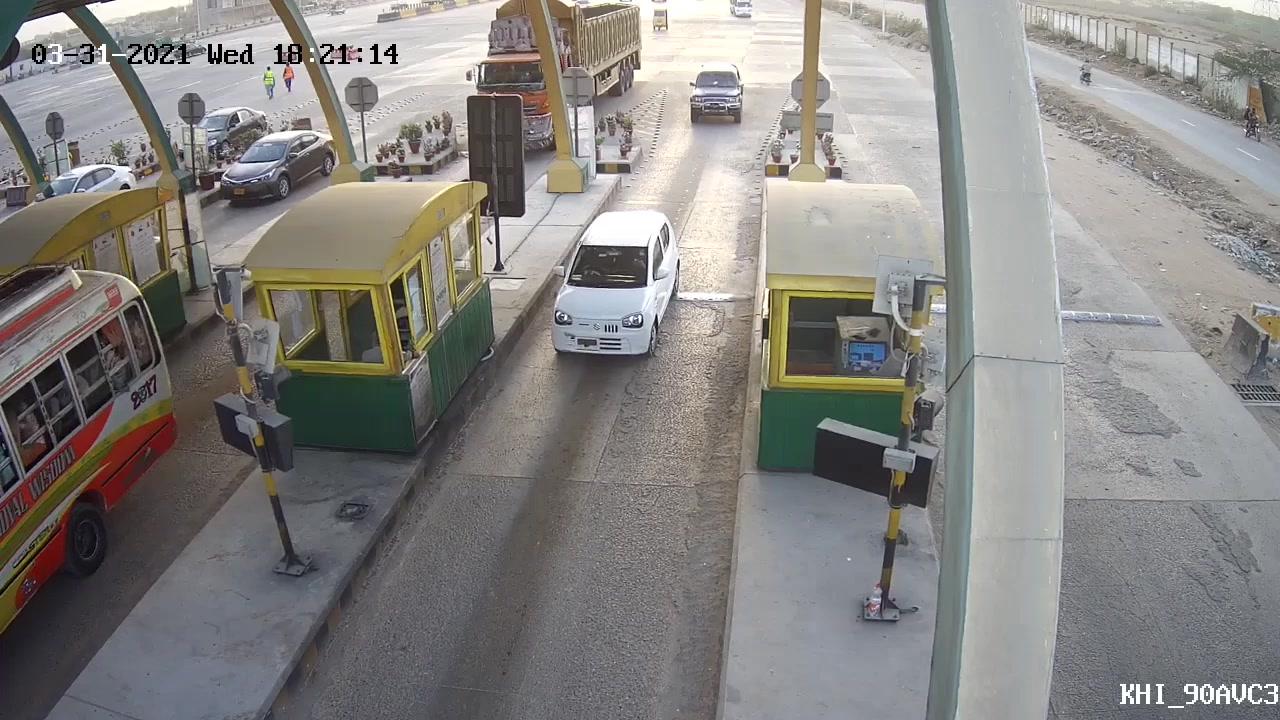F1: (541, 208, 681, 360)
